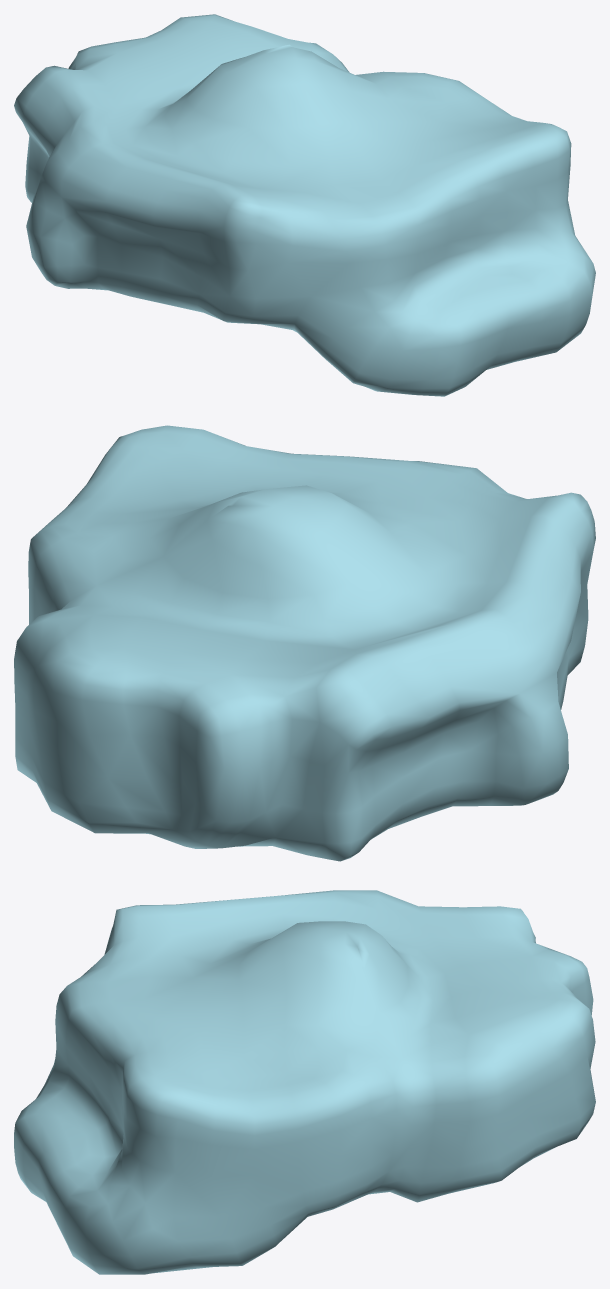
File: SmallRock1.fbx
3 renders of one model, top to bottom at view 1: azimuth 30°, elevation 25°; view 2: azimuth 150°, elevation 25°; view 3: azimuth 270°, elevation 25°, orthographic. The views are drawn at different scales.
Parts seen in each view (by area): view 1: Retopo_Cube.001; view 2: Retopo_Cube.001; view 3: Retopo_Cube.001.
Part boxes in pixels (box(x1,y1,x2,y2)): Retopo_Cube.001: box(14, 14, 595, 396); Retopo_Cube.001: box(14, 425, 595, 861); Retopo_Cube.001: box(14, 890, 595, 1274).
Size of the model in its own units: 118 by 61.19 by 128.
